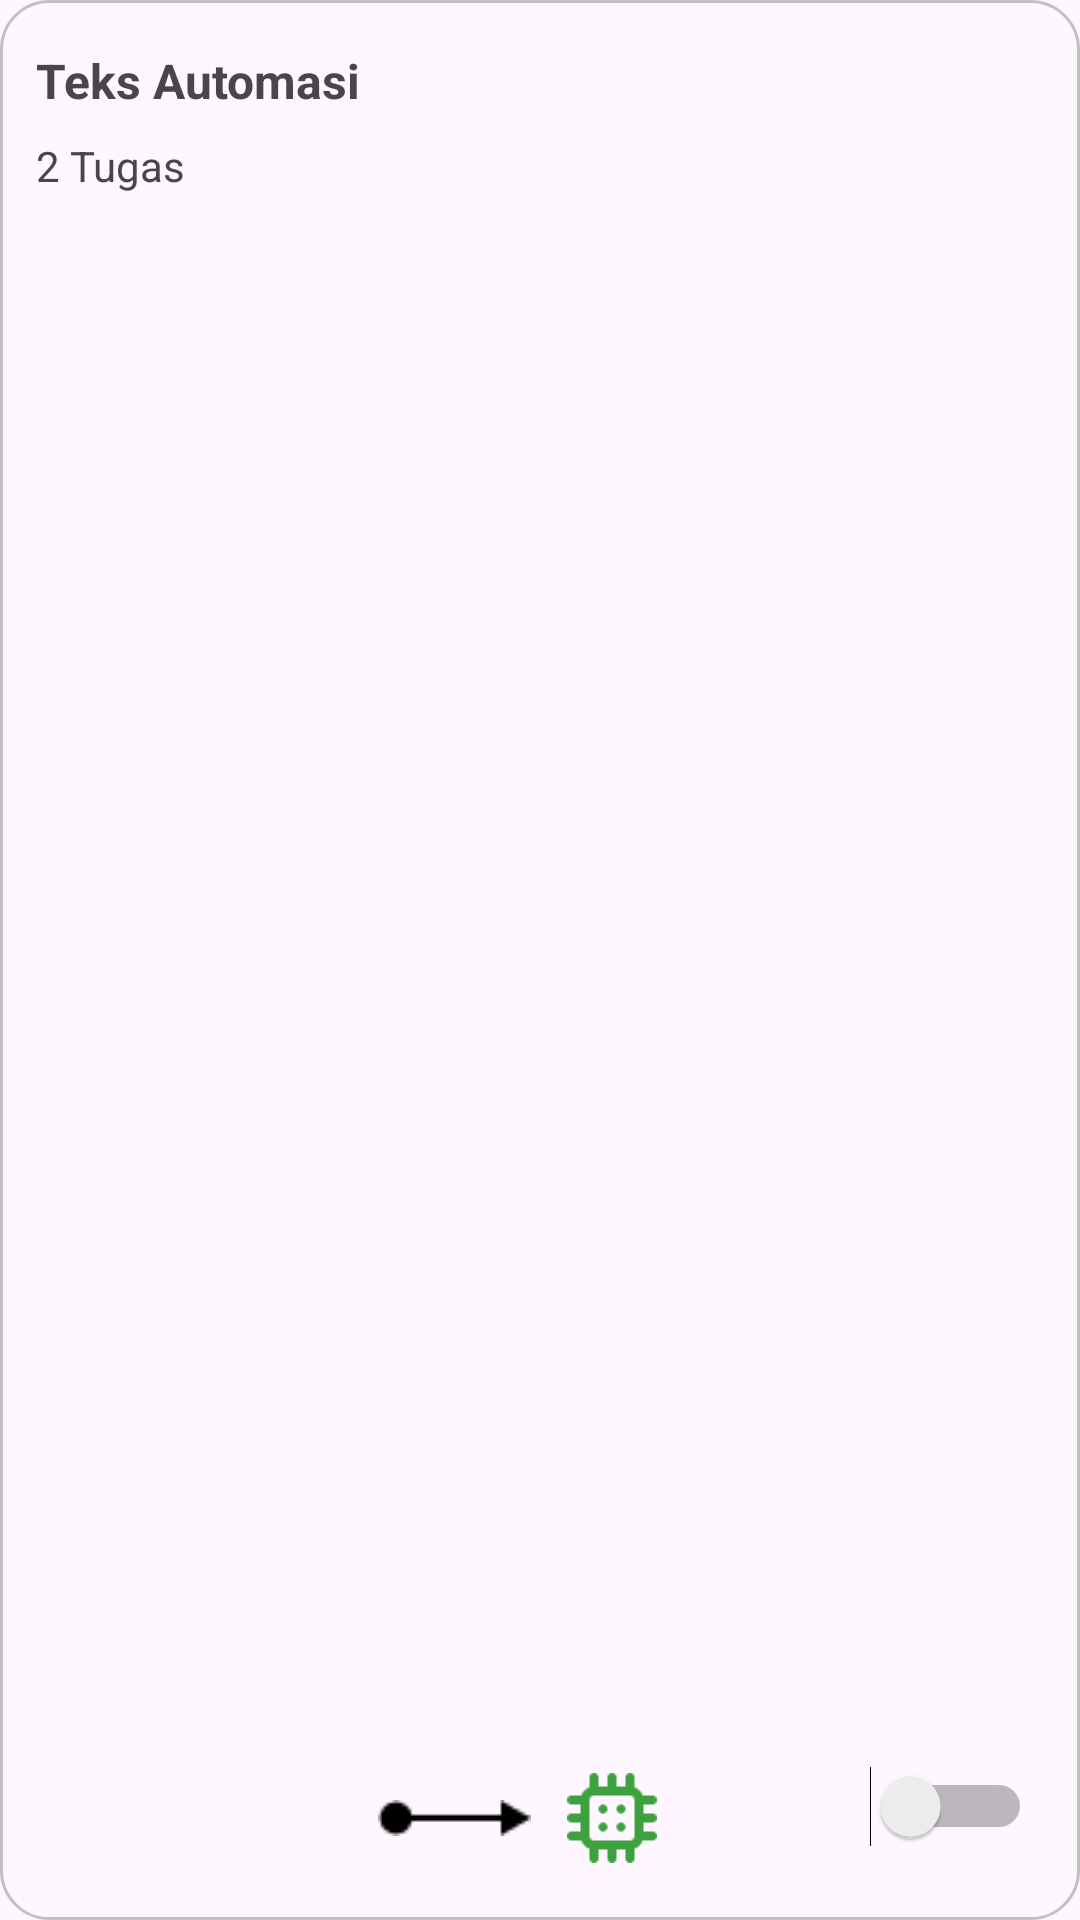

Screen size 1080 x 1920. Icon name, then its box in pixels as (x1, y1, x2, y2):
chip: (567, 1773, 657, 1863)
line: (378, 1800, 531, 1836)
